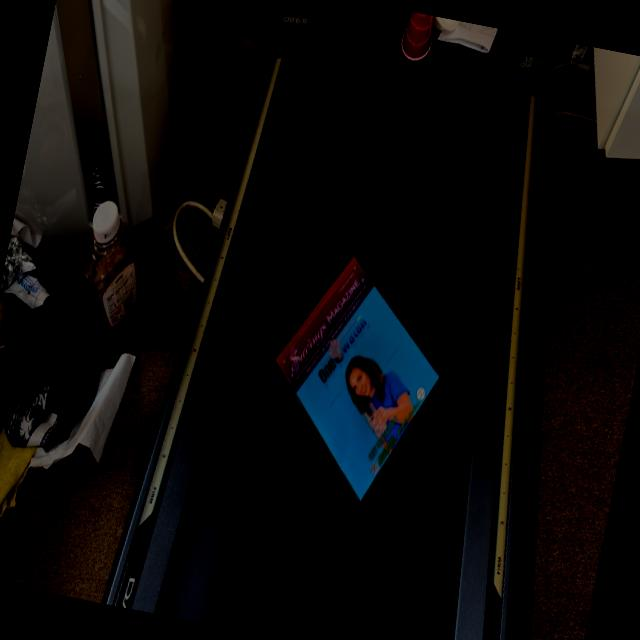Recycle: (248, 248, 458, 514), (394, 10, 438, 69)
